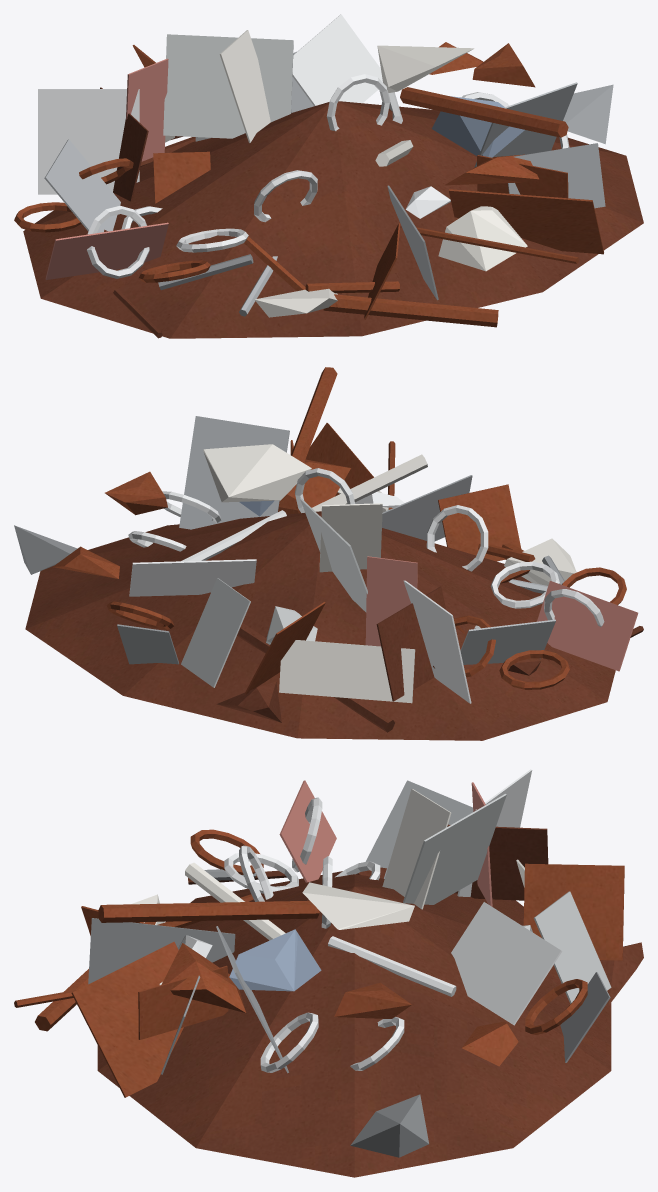
File: scrap_heap.glb
The picture shows the model from 3 angles, top to bottom: view 1: azimuth 30°, elevation 25°; view 2: azimuth 150°, elevation 25°; view 3: azimuth 270°, elevation 25°; orthographic projection. The views are drawn at different scales.
Visible parts, largest first — view 1: scrap_heap_rust_d, scrap_heap_rust, scrap_heap_chrome, scrap_heap_car_w, scrap_heap_sheet_a, scrap_heap_engine, scrap_heap_car_r, scrap_heap_steel, scrap_heap_car_b; view 2: scrap_heap_rust_d, scrap_heap_rust, scrap_heap_car_w, scrap_heap_chrome, scrap_heap_steel, scrap_heap_car_r, scrap_heap_sheet_a, scrap_heap_engine; view 3: scrap_heap_rust_d, scrap_heap_rust, scrap_heap_chrome, scrap_heap_engine, scrap_heap_sheet_a, scrap_heap_car_w, scrap_heap_car_b, scrap_heap_car_r, scrap_heap_steel.
Boxes of the visible parts, x1=… form: scrap_heap_rust_d: x1=23, y1=87, x2=643, y2=338; scrap_heap_rust: x1=14, y1=42, x2=603, y2=327; scrap_heap_chrome: x1=38, y1=14, x2=569, y2=278; scrap_heap_car_w: x1=165, y1=30, x2=527, y2=317; scrap_heap_sheet_a: x1=163, y1=34, x2=293, y2=141; scrap_heap_engine: x1=158, y1=51, x2=613, y2=300; scrap_heap_car_r: x1=45, y1=58, x2=168, y2=279; scrap_heap_steel: x1=44, y1=82, x2=577, y2=316; scrap_heap_car_b: x1=431, y1=96, x2=524, y2=157; scrap_heap_rust_d: x1=25, y1=511, x2=643, y2=740; scrap_heap_rust: x1=53, y1=367, x2=626, y2=694; scrap_heap_car_w: x1=203, y1=444, x2=576, y2=703; scrap_heap_chrome: x1=128, y1=468, x2=604, y2=703; scrap_heap_steel: x1=179, y1=416, x2=555, y2=664; scrap_heap_car_r: x1=365, y1=556, x2=638, y2=671; scrap_heap_sheet_a: x1=181, y1=498, x2=367, y2=687; scrap_heap_engine: x1=14, y1=475, x2=564, y2=664; scrap_heap_rust_d: x1=97, y1=824, x2=643, y2=1177; scrap_heap_rust: x1=14, y1=829, x2=624, y2=1097; scrap_heap_chrome: x1=178, y1=769, x2=562, y2=1072; scrap_heap_engine: x1=88, y1=869, x2=610, y2=1157; scrap_heap_sheet_a: x1=403, y1=794, x2=611, y2=1003; scrap_heap_car_w: x1=131, y1=789, x2=524, y2=985; scrap_heap_car_b: x1=229, y1=929, x2=321, y2=991; scrap_heap_car_r: x1=279, y1=780, x2=492, y2=906; scrap_heap_steel: x1=216, y1=780, x2=473, y2=1073.
Bounding box in the file's own units: 4.73 × 1.31 × 3.97.
Materials: 9 (2 with a texture image).
